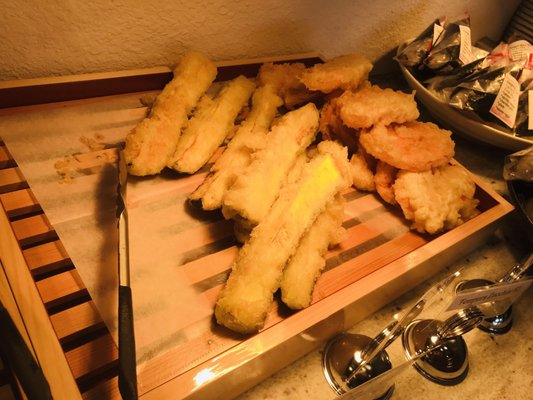sushi: (395, 16, 533, 153)
